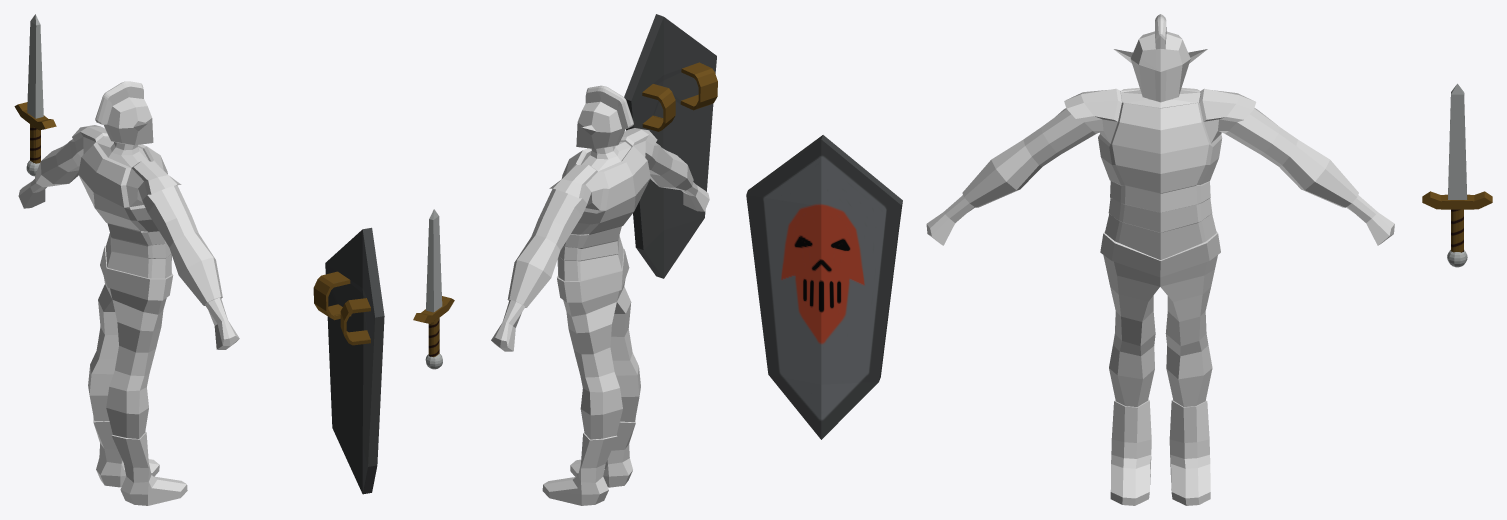
File: ElfSoldier.fbx
The picture shows the model from 3 angles, left to right: view 1: azimuth 30°, elevation 25°; view 2: azimuth 150°, elevation 25°; view 3: azimuth 270°, elevation 25°; orthographic projection. The views are drawn at different scales.
Parts seen in each view (by area): view 1: Shirt, Shield, Pants, Boots, Helmet, Sword, Body; view 2: Shield, Shirt, Pants, Boots, Helmet, Sword, Body; view 3: Shield, Shirt, Pants, Boots, Sword, Helmet, Body.
Part boxes in pixels (bbox=[...]): Shirt: bbox=[35, 125, 222, 305]; Shield: bbox=[313, 227, 384, 494]; Pants: bbox=[88, 246, 173, 438]; Boots: bbox=[93, 416, 187, 505]; Helmet: bbox=[95, 81, 153, 145]; Sword: bbox=[14, 14, 56, 176]; Body: bbox=[18, 138, 239, 349]; Shield: bbox=[624, 14, 717, 278]; Shirt: bbox=[507, 128, 693, 307]; Pants: bbox=[557, 248, 640, 439]; Boots: bbox=[542, 417, 635, 505]; Helmet: bbox=[576, 85, 633, 148]; Sword: bbox=[413, 209, 454, 369]; Body: bbox=[491, 142, 709, 351]; Shield: bbox=[746, 135, 902, 439]; Shirt: bbox=[962, 87, 1358, 260]; Pants: bbox=[1100, 231, 1220, 406]; Boots: bbox=[1110, 399, 1210, 505]; Sword: bbox=[1422, 83, 1492, 267]; Helmet: bbox=[1130, 14, 1190, 102]; Body: bbox=[926, 90, 1394, 245].
Size of the model in its own units: 189 by 575 by 837.
